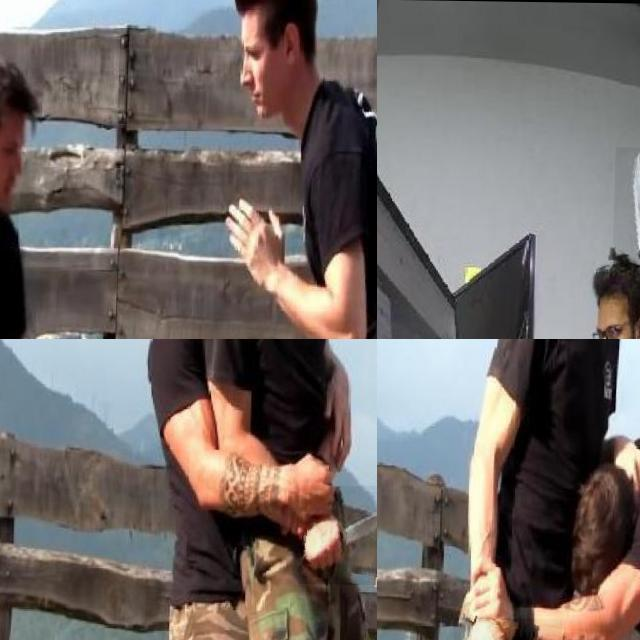-: (301, 483, 377, 584), (613, 146, 640, 266), (455, 616, 564, 640)
